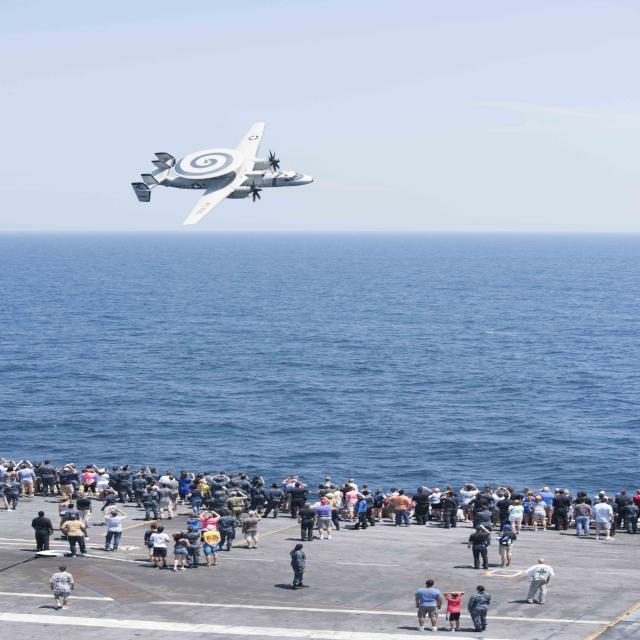MIL_Plane: (131, 122, 314, 225)
